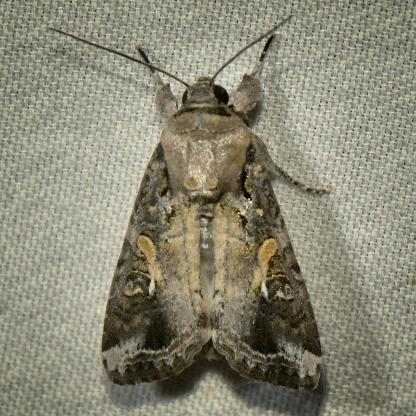Fall Armyworm Moth: (46, 12, 334, 402)
